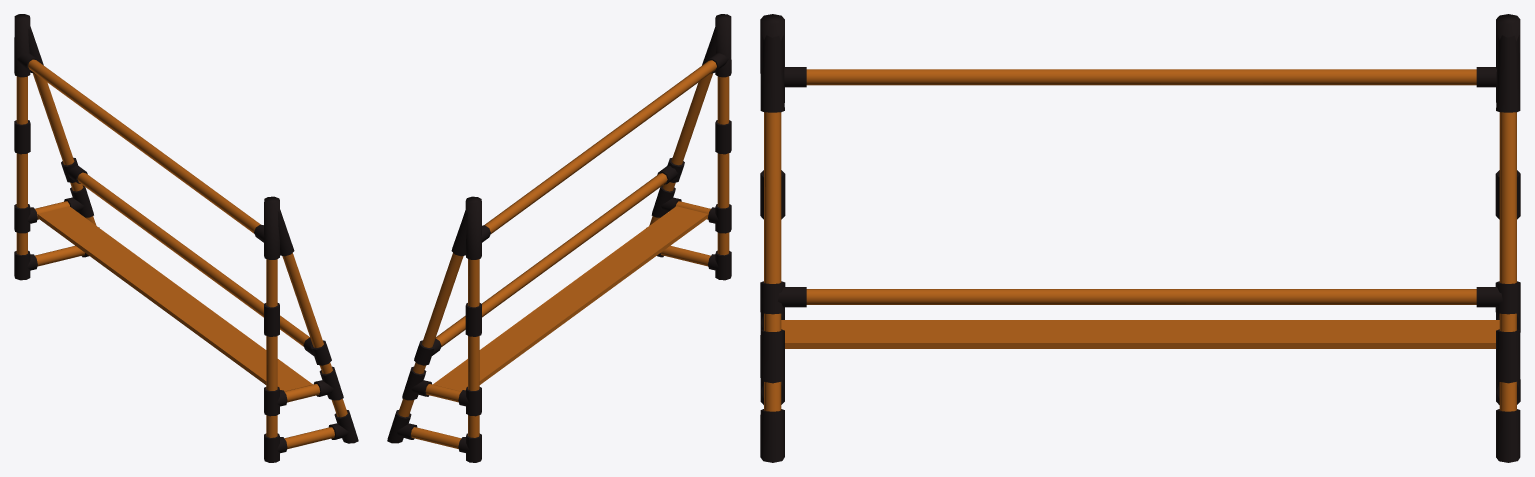
The model's file is WeaponStand_low (1).FBX.
3 views of the same model, side by side, from view 1: azimuth 30°, elevation 25°; view 2: azimuth 150°, elevation 25°; view 3: azimuth 270°, elevation 25° (orthographic). The views are drawn at different scales.
Visible parts, largest first — view 1: Tube, Atach, Table; view 2: Tube, Atach, Table; view 3: Tube, Table, Atach.
Boxes of the visible parts, x1,y1,x2,y2 form: Tube: (16, 59, 347, 449); Atach: (14, 14, 358, 462); Table: (37, 206, 312, 391); Tube: (398, 60, 729, 448); Atach: (387, 14, 731, 462); Table: (433, 206, 708, 391); Tube: (764, 69, 1516, 411); Table: (781, 320, 1499, 348); Atach: (760, 14, 1520, 462).
Bounding box in the file's own units: 91.21 × 242 × 436.
